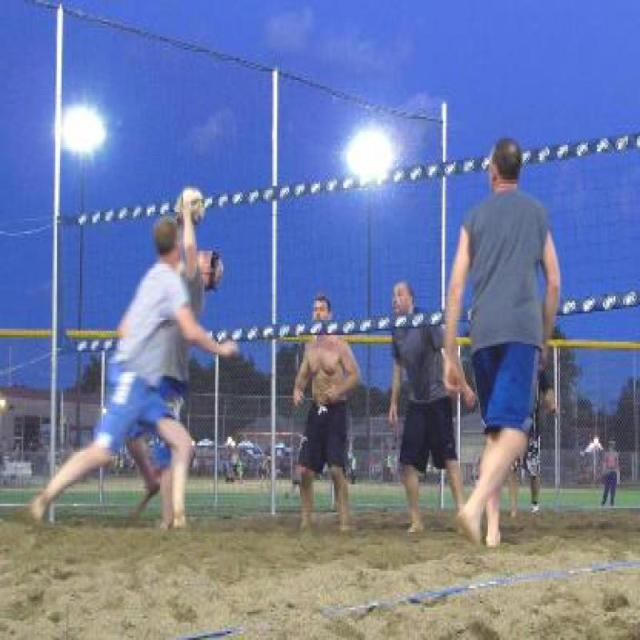volleyball: (176, 184, 206, 227)
